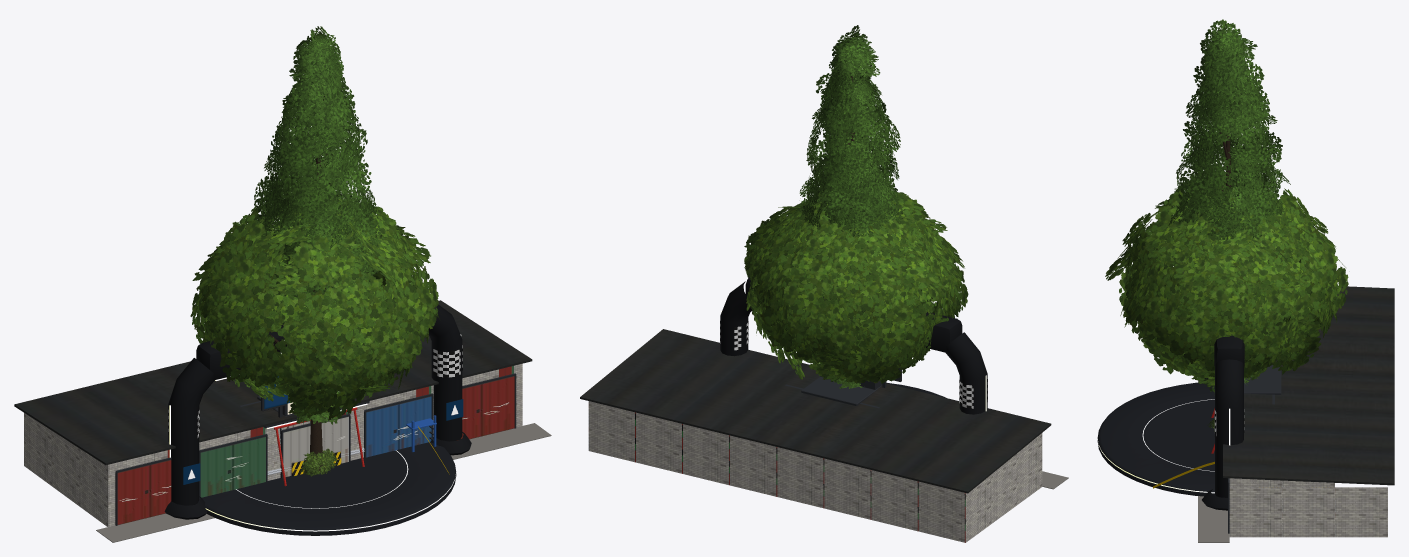
File: ua_props.glb
The picture shows the model from 3 angles, left to right: view 1: azimuth 30°, elevation 25°; view 2: azimuth 150°, elevation 25°; view 3: azimuth 270°, elevation 25°; orthographic projection. The views are drawn at different scales.
Visible parts, largest first — view 1: garages, tree_chestnut, tree_poplar, podium, finish_arch, playground, bush; view 2: garages, tree_chestnut, tree_poplar, finish_arch, kiosk; view 3: garages, tree_chestnut, tree_poplar, podium, finish_arch, kiosk.
Part boxes in pixels (box(x1,y1,x2,y2)): garages: box(14, 300, 551, 542); tree_chestnut: box(190, 194, 439, 470); tree_poplar: box(254, 26, 381, 424); podium: box(194, 442, 456, 535); finish_arch: box(164, 304, 471, 519); playground: box(274, 407, 449, 486); bush: box(300, 448, 337, 476); garages: box(580, 329, 1068, 542); tree_chestnut: box(744, 186, 968, 383); tree_poplar: box(799, 25, 902, 388); finish_arch: box(720, 277, 987, 414); kiosk: box(801, 376, 881, 405); garages: box(1198, 286, 1394, 542); tree_chestnut: box(1105, 177, 1348, 386); tree_poplar: box(1168, 19, 1290, 395); podium: box(1097, 382, 1215, 496); finish_arch: box(1202, 335, 1244, 510); kiosk: box(1244, 365, 1281, 394).
Size of what is drawn, in the model's own units: 18 by 18.17 by 11.26.
Materials: 17 (6 with a texture image).
